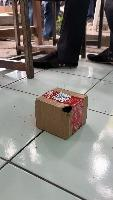damaged package: (59, 104, 76, 115)
undamaged: (32, 85, 90, 142)
